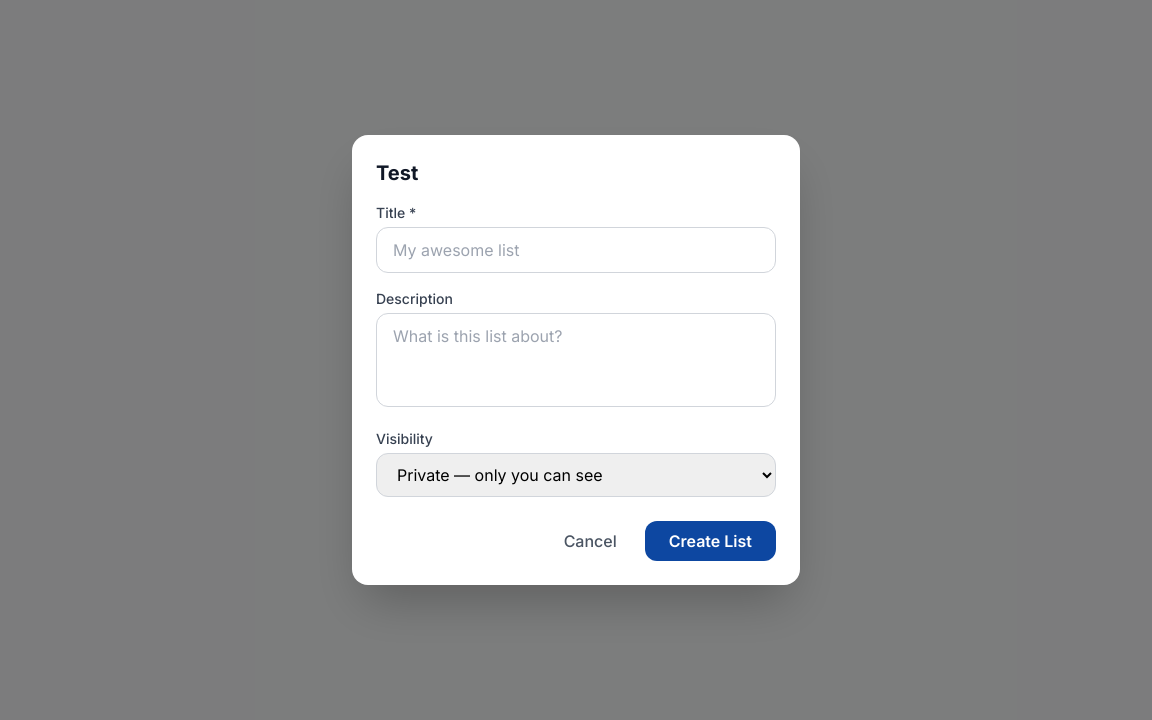
ListFormModal › disables submit while saving
Type "Title" into the field with placeholder "My awesome list" at (576, 250), box [376,227,776,273]
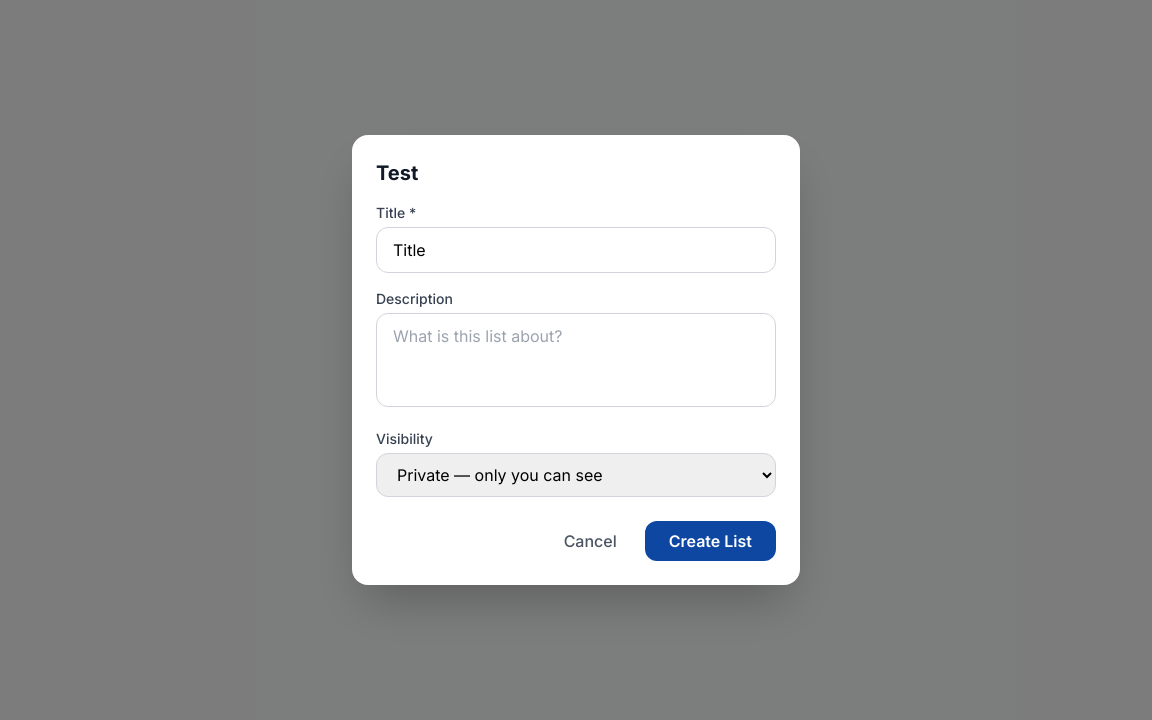
Click the button "Create List" at (710, 541), box [645,521,776,561]
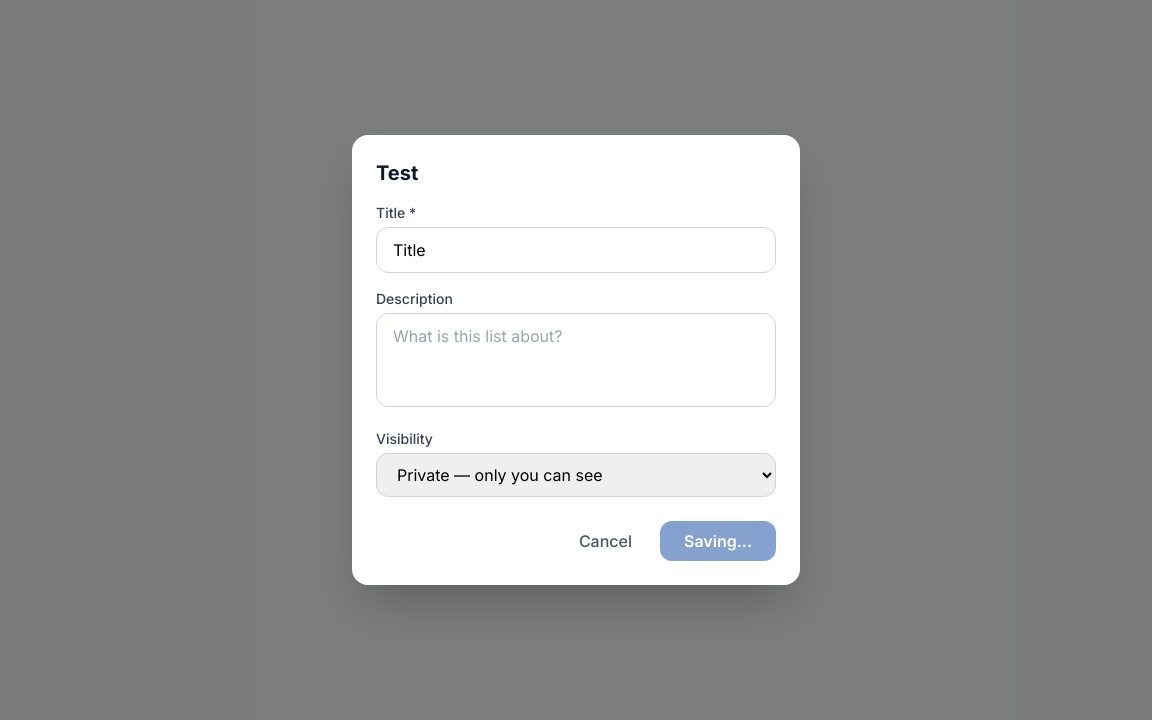
Check: the button "Saving..." is disabled, box [660,521,776,561]
